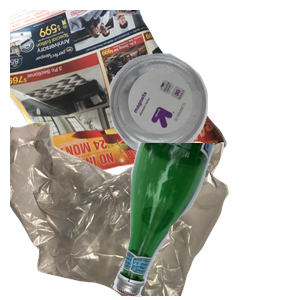glass: (109, 143, 300, 300)
paper: (10, 10, 230, 188)
plastic: (107, 51, 300, 199)
trash: (10, 120, 231, 300)
